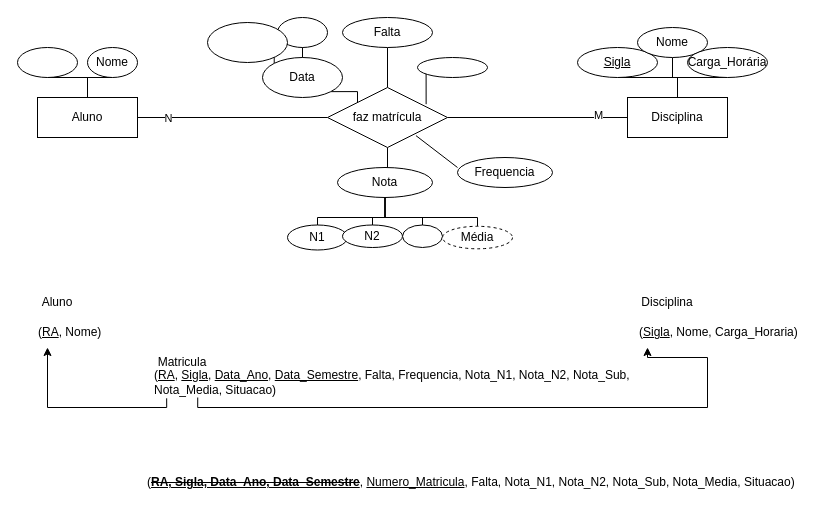
Some shapes in this 827 by 515 pixel diagram are drawn without their labels. The shapes that lost their labels are listed below. From the top down, each one's centre as x and y in pixels, then its label:
At [247,42]: "Semestre".
At [302,32]: "Ano".
At [47,62]: "RA".
At [452,67]: "Situacao".
At [422,236]: "SUB".
